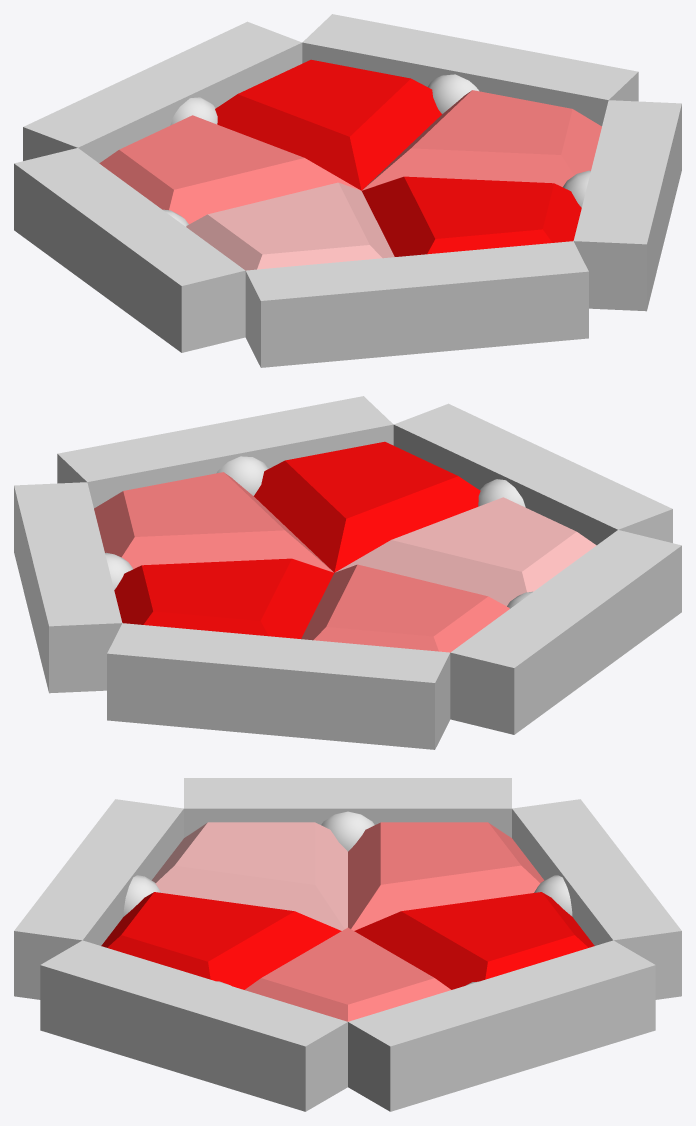
The model's file is Pentagon_QS.fbx.
3 renders of one model, top to bottom at view 1: azimuth 30°, elevation 25°; view 2: azimuth 150°, elevation 25°; view 3: azimuth 270°, elevation 25°, orthographic. The views are drawn at different scales.
Visible parts, largest first — view 1: Side2, Side1, Cylinder_1_2_1, Side3, Side4, Side5, Cylinder_1_2_5, Cylinder_1_2_2, Cylinder_1_2_4, Cylinder_1_2_3, Sphere_2, Sphere_1 (+1 smaller); view 2: Side5, Side1, Cylinder_1_2_4, Side4, Side3, Side2, Cylinder_1_2_5, Cylinder_1_2_3, Cylinder_1_2_1, Cylinder_1_2_2, Sphere_2_2, Sphere_1_2 (+1 smaller); view 3: Side4, Side3, Cylinder_1_2_3, Cylinder_1_2_2, Side5, Side2, Side1, Cylinder_1_2_4, Cylinder_1_2_1, Cylinder_1_2_5, Sphere_2_3, Sphere_1_2 (+1 smaller).
Part boxes in pixels (bbox=[...]): Side2: bbox=[245, 241, 588, 367]; Side1: bbox=[14, 148, 245, 352]; Cylinder_1_2_1: bbox=[215, 59, 441, 190]; Side3: bbox=[573, 100, 681, 311]; Side4: bbox=[302, 14, 638, 126]; Side5: bbox=[23, 21, 302, 163]; Cylinder_1_2_5: bbox=[362, 90, 601, 190]; Cylinder_1_2_2: bbox=[99, 115, 360, 224]; Cylinder_1_2_4: bbox=[362, 176, 581, 256]; Cylinder_1_2_3: bbox=[186, 182, 394, 270]; Sphere_2: bbox=[428, 74, 478, 113]; Sphere_1: bbox=[170, 97, 217, 125]; Side5: bbox=[107, 623, 450, 749]; Side1: bbox=[450, 530, 681, 734]; Cylinder_1_2_4: bbox=[254, 441, 480, 572]; Side4: bbox=[14, 482, 122, 693]; Side3: bbox=[57, 396, 393, 508]; Side2: bbox=[393, 403, 672, 545]; Cylinder_1_2_5: bbox=[94, 472, 333, 572]; Cylinder_1_2_3: bbox=[335, 497, 596, 606]; Cylinder_1_2_1: bbox=[114, 558, 333, 638]; Cylinder_1_2_2: bbox=[301, 564, 509, 652]; Sphere_2_2: bbox=[216, 456, 268, 495]; Sphere_1_2: bbox=[478, 479, 525, 507]; Side4: bbox=[348, 940, 655, 1111]; Side3: bbox=[40, 940, 347, 1111]; Cylinder_1_2_3: bbox=[151, 822, 347, 930]; Cylinder_1_2_2: bbox=[348, 822, 544, 930]; Side5: bbox=[512, 799, 681, 999]; Side2: bbox=[14, 799, 183, 999]; Side1: bbox=[184, 778, 511, 837]; Cylinder_1_2_4: bbox=[101, 892, 341, 989]; Cylinder_1_2_1: bbox=[354, 892, 594, 989]; Cylinder_1_2_5: bbox=[245, 927, 450, 1021]; Sphere_2_3: bbox=[321, 811, 374, 851]; Sphere_1_2: bbox=[123, 875, 161, 916].
Size of what is drawn, in the model's own units: 194 by 22 by 204.
